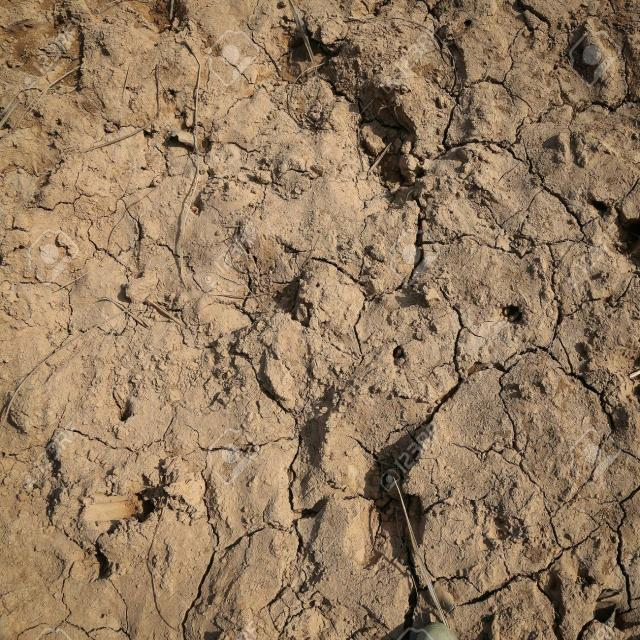suelo_seco: (127, 67, 526, 601)
